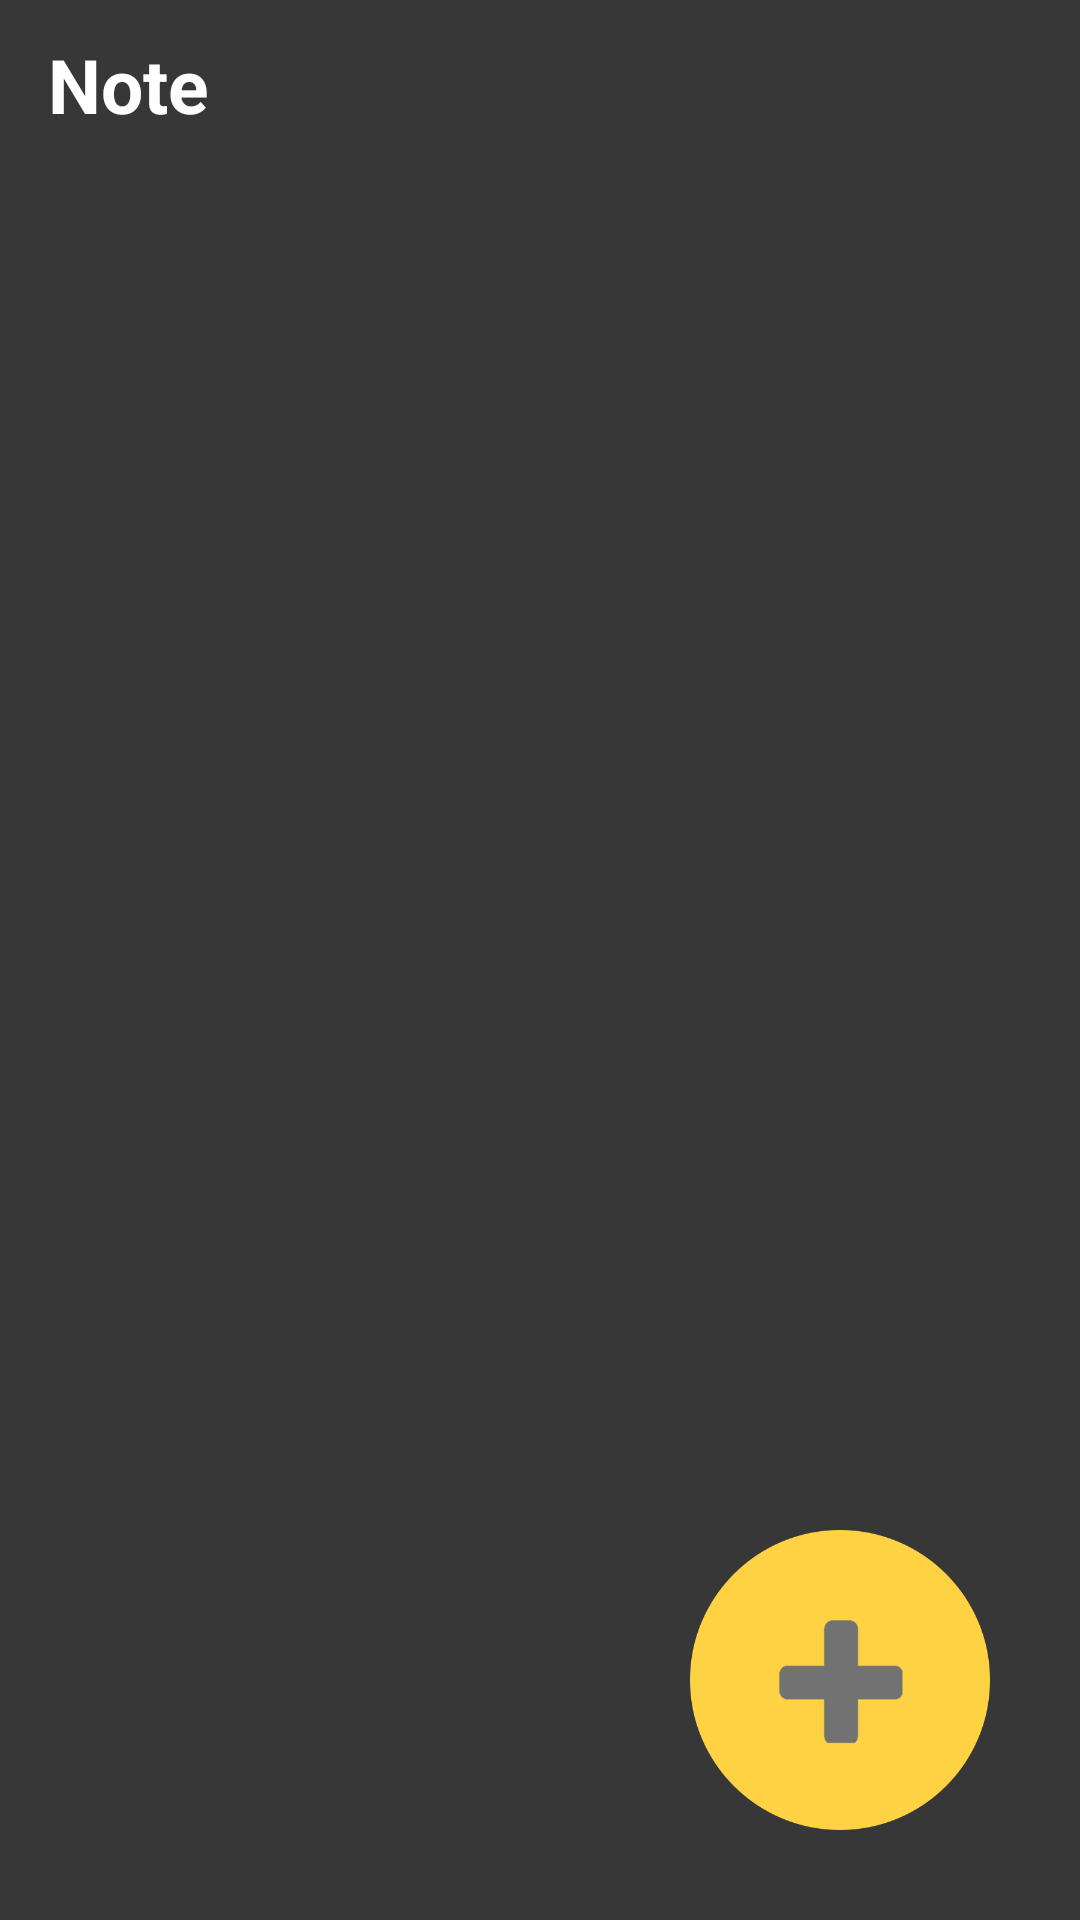

Icon bounding boxes for this 1080w x 1920h phone screenshot, format [x1,y1,x2,y2]:
plusbtn: [690,1530,990,1830]
